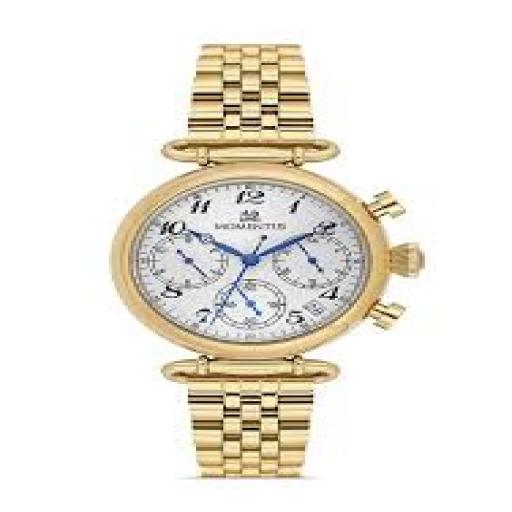KolSaati: (74, 37, 450, 478)
